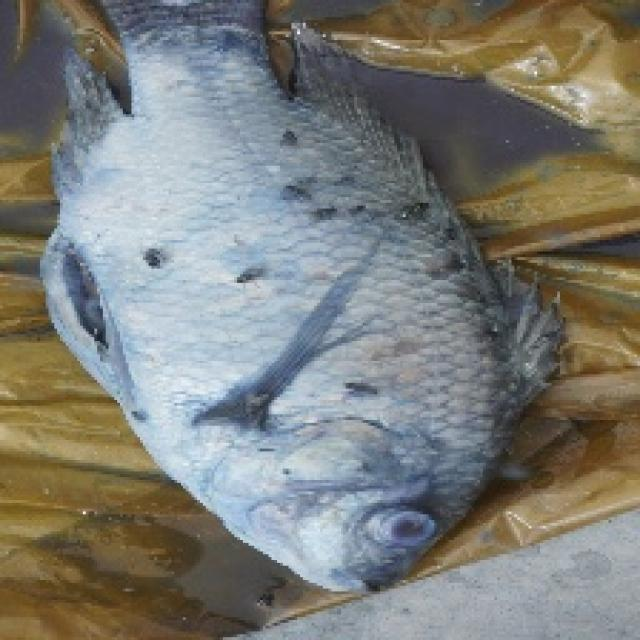Non-Fresh: (68, 62, 527, 594), (364, 489, 446, 568)
